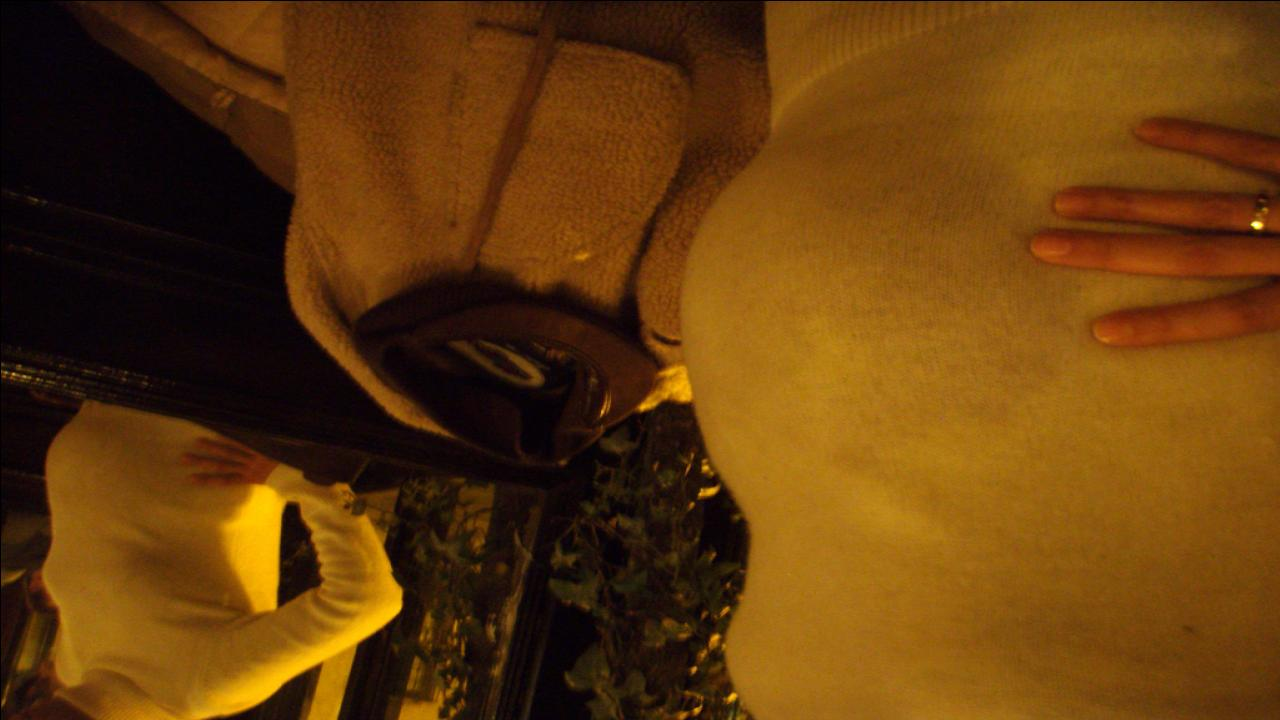ring: (1246, 198, 1272, 230)
